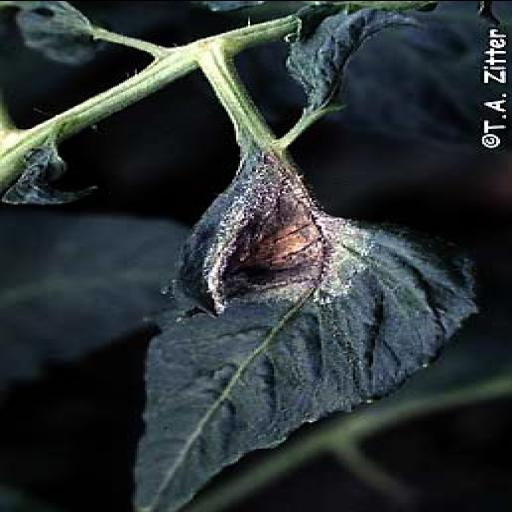disease_tomato: (107, 150, 474, 510)
